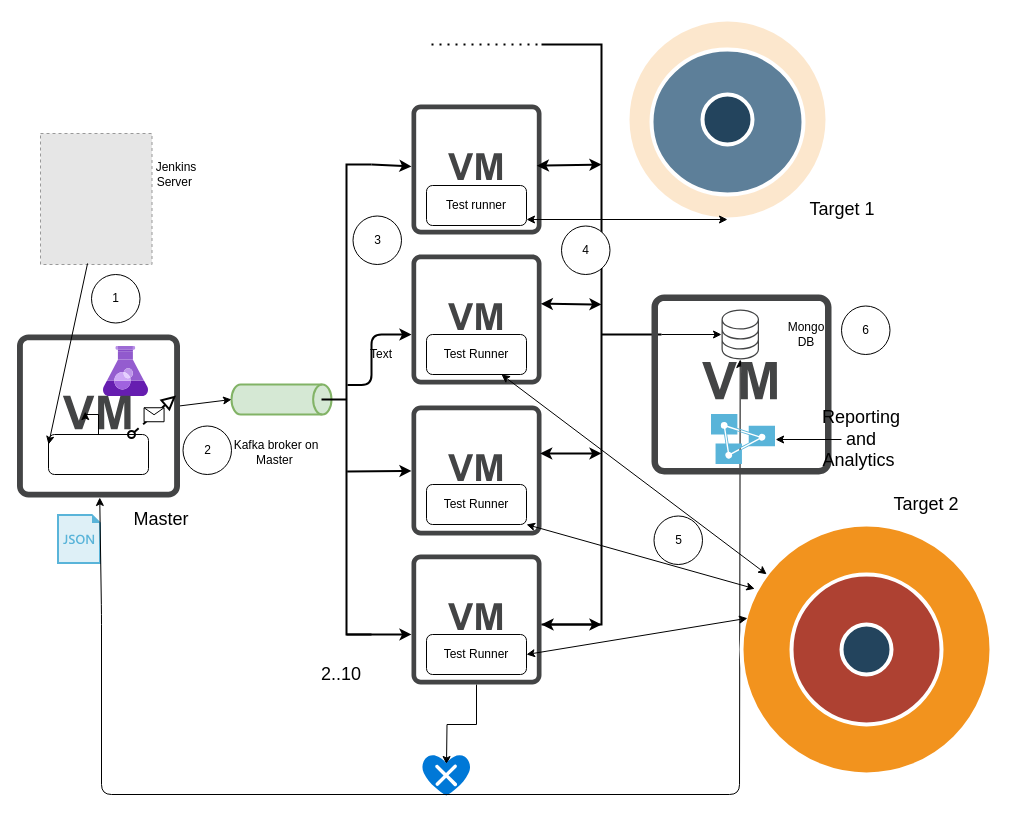
Image size: 1011x821. Some labels were removed from this diagram. Grey dashed boxes stand in for pictures. Each missing label, with the centre of its shape:
"Distributed Executor" goes at point (98, 454).
"Kafka" goes at point (281, 399).
